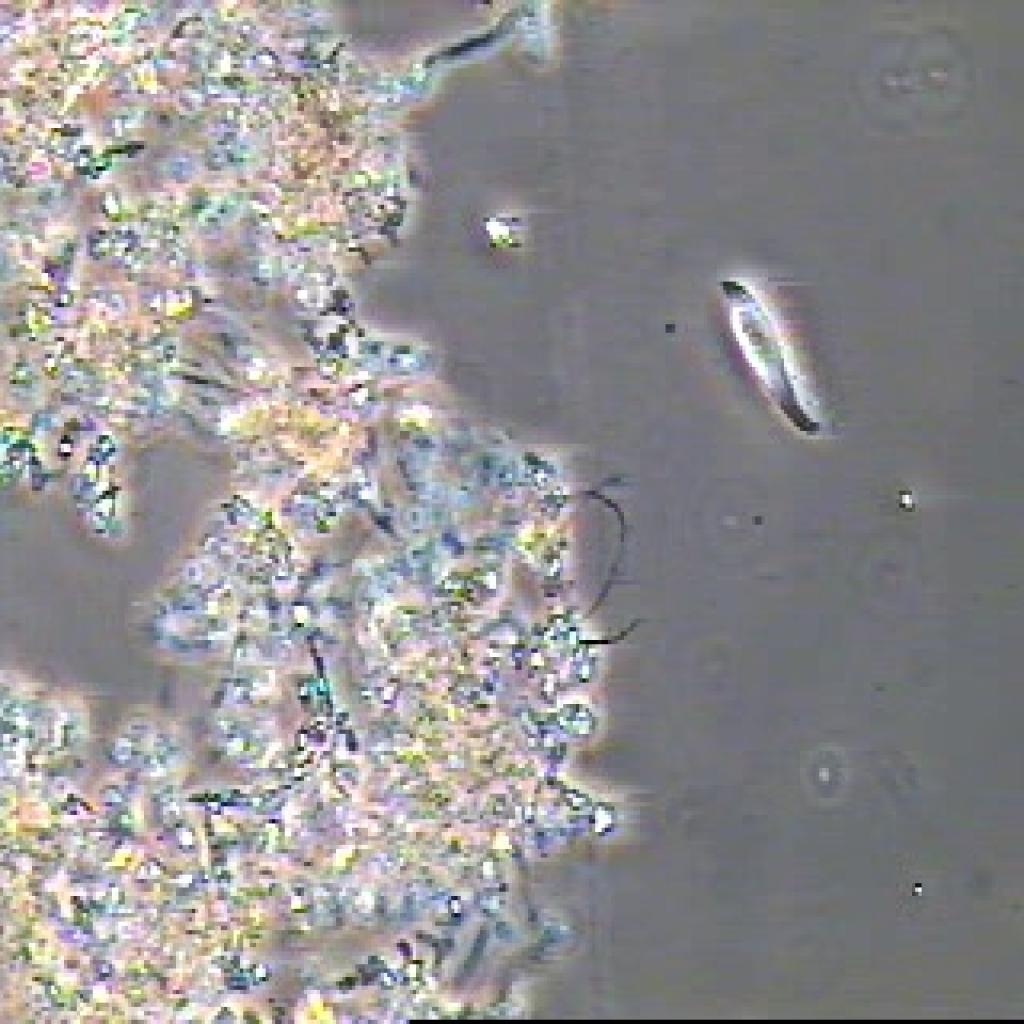Pristina: (702, 273, 840, 448)
